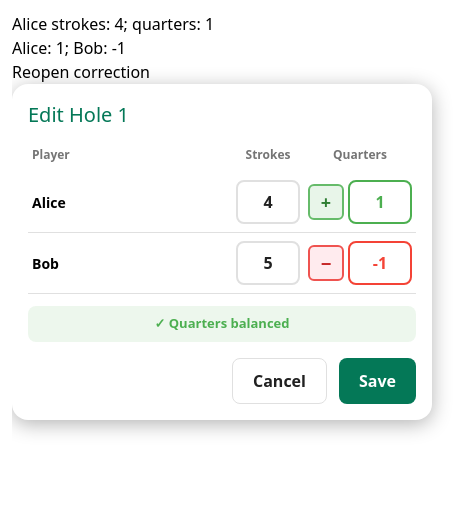
Scenario: correction save through the real handler and editor › hole editor queued outcomes › changing the draft invalidates pending feedback even after the older HTTP 200 outcome
Replace the text in the field named "Alice strokes" with "6" at (268, 202), box [236,180,300,224]
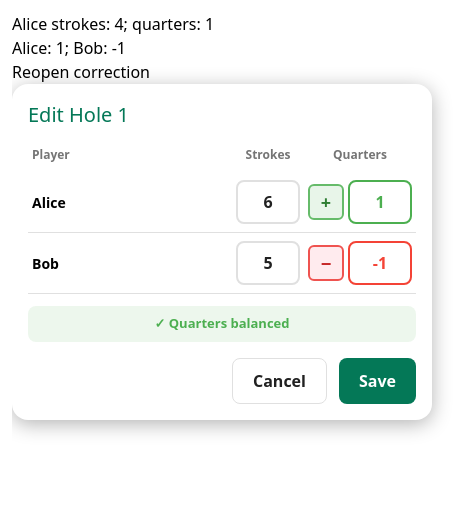
Replace the text in the field named "Alice quarters" with "2" at (380, 202), box [348,180,412,224]
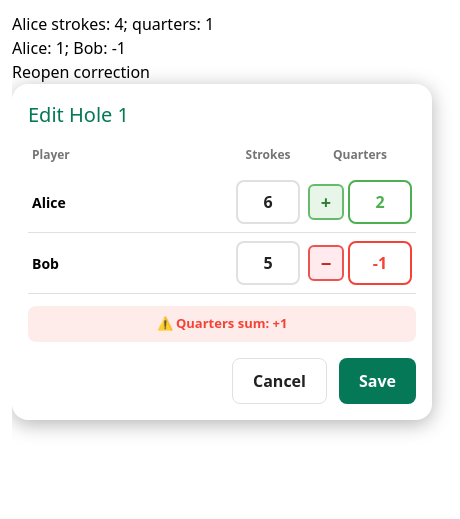
Replace the text in the field named "Bob quarters" with "-2" at (380, 263), box [348,241,412,285]
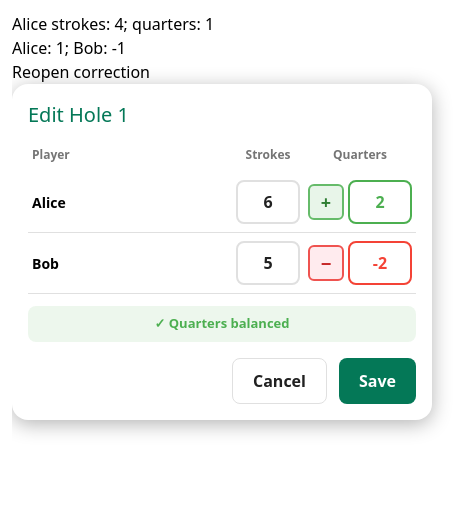
Click the button "Save" at (378, 380), box [339,358,416,404]
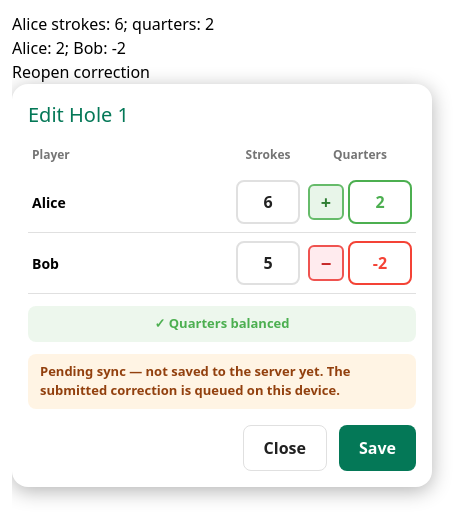
Check: the message shows "Pending sync", box [40,362,350,399]
Replace the text in the field named "Alice strokes" with "7" at (268, 202), box [236,180,300,224]
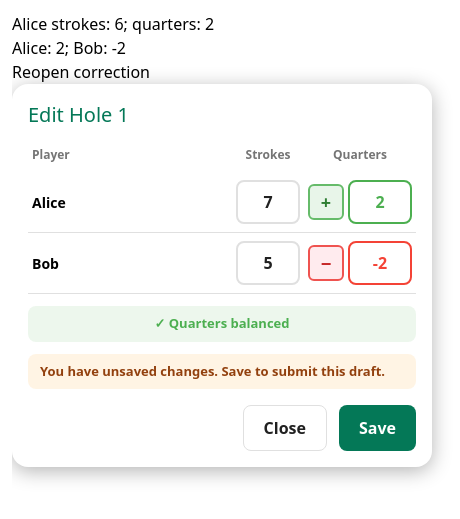
Check: the message no longer shows "Pending sync", box [28,354,416,389]
Check: the message shows "unsaved changes", box [40,362,385,380]
